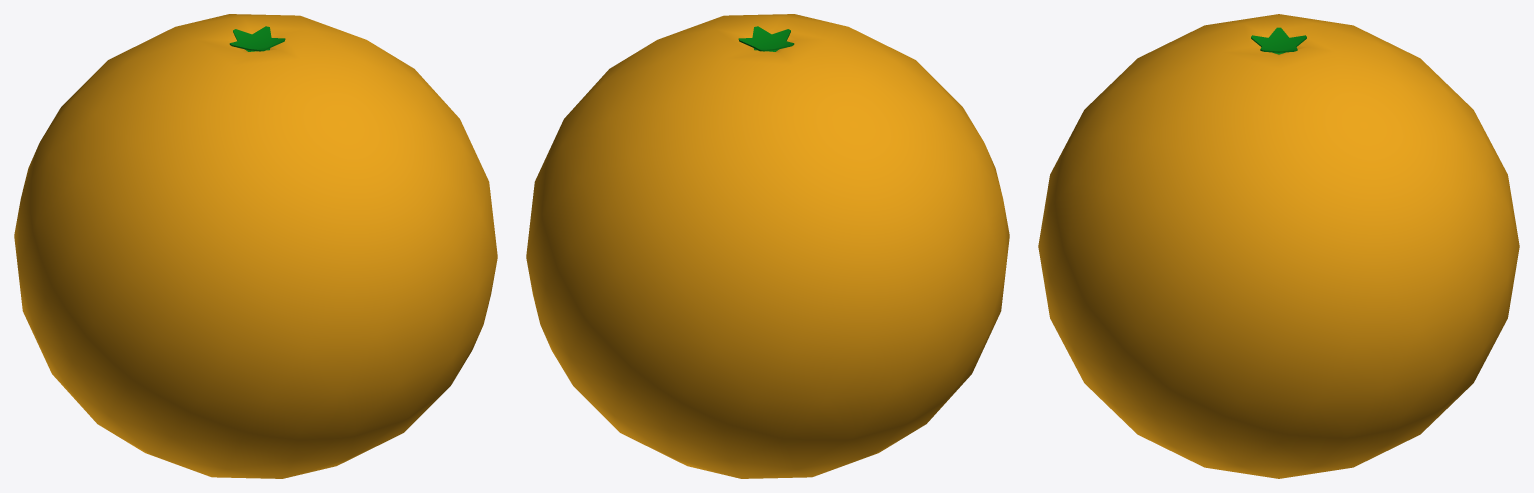
File: SM_Orange_001.fbx
The picture shows the model from 3 angles, left to right: view 1: azimuth 30°, elevation 25°; view 2: azimuth 150°, elevation 25°; view 3: azimuth 270°, elevation 25°; orthographic projection.
Parts seen in each view (by area): view 1: Orange; view 2: Orange; view 3: Orange.
Part boxes in pixels (<box>): Orange: <box>14,14,497,478</box>; Orange: <box>526,14,1009,478</box>; Orange: <box>1038,14,1519,478</box>.
Bounding box in the file's own units: 21 × 20 × 21.
